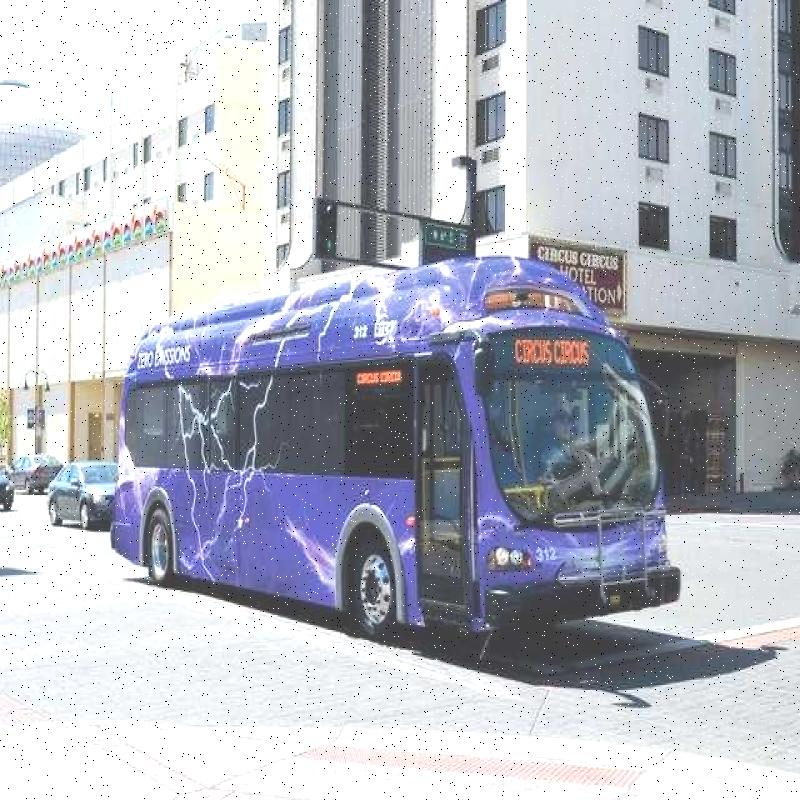bus: (115, 254, 710, 664)
